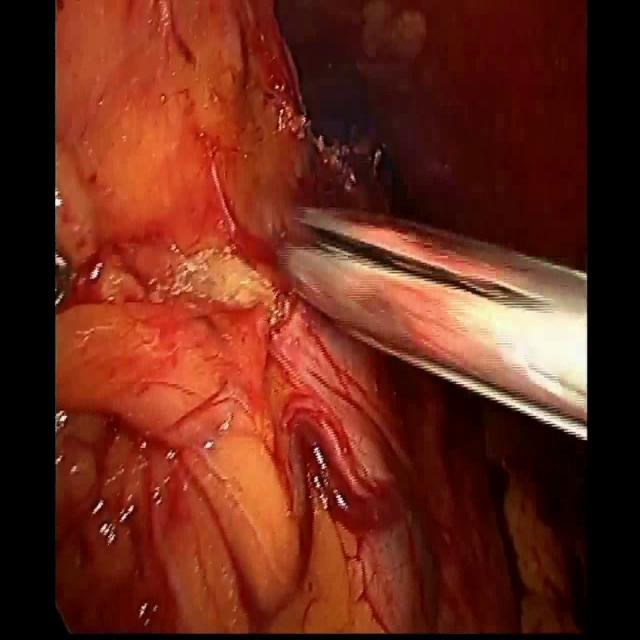surgical-area: (55, 0, 586, 632)
surgical-tool: (278, 201, 586, 441)
